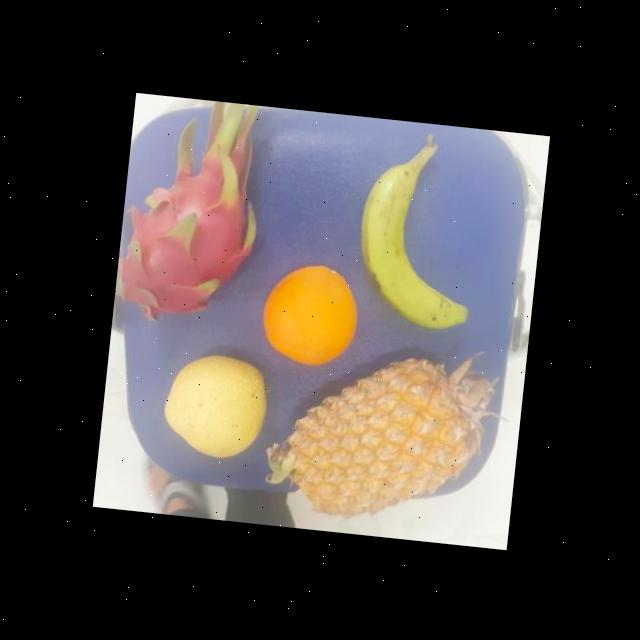banana: (350, 146, 474, 324)
orange: (257, 256, 364, 368)
pear: (158, 347, 274, 462)
pineapple: (274, 340, 500, 528)
pitaya: (111, 112, 272, 336)
